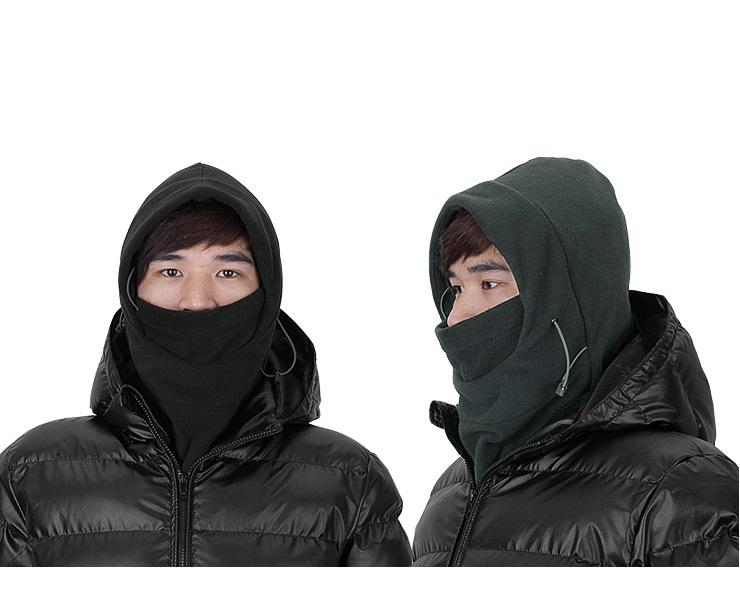WRONG: (140, 245, 276, 381), (435, 262, 552, 379)
